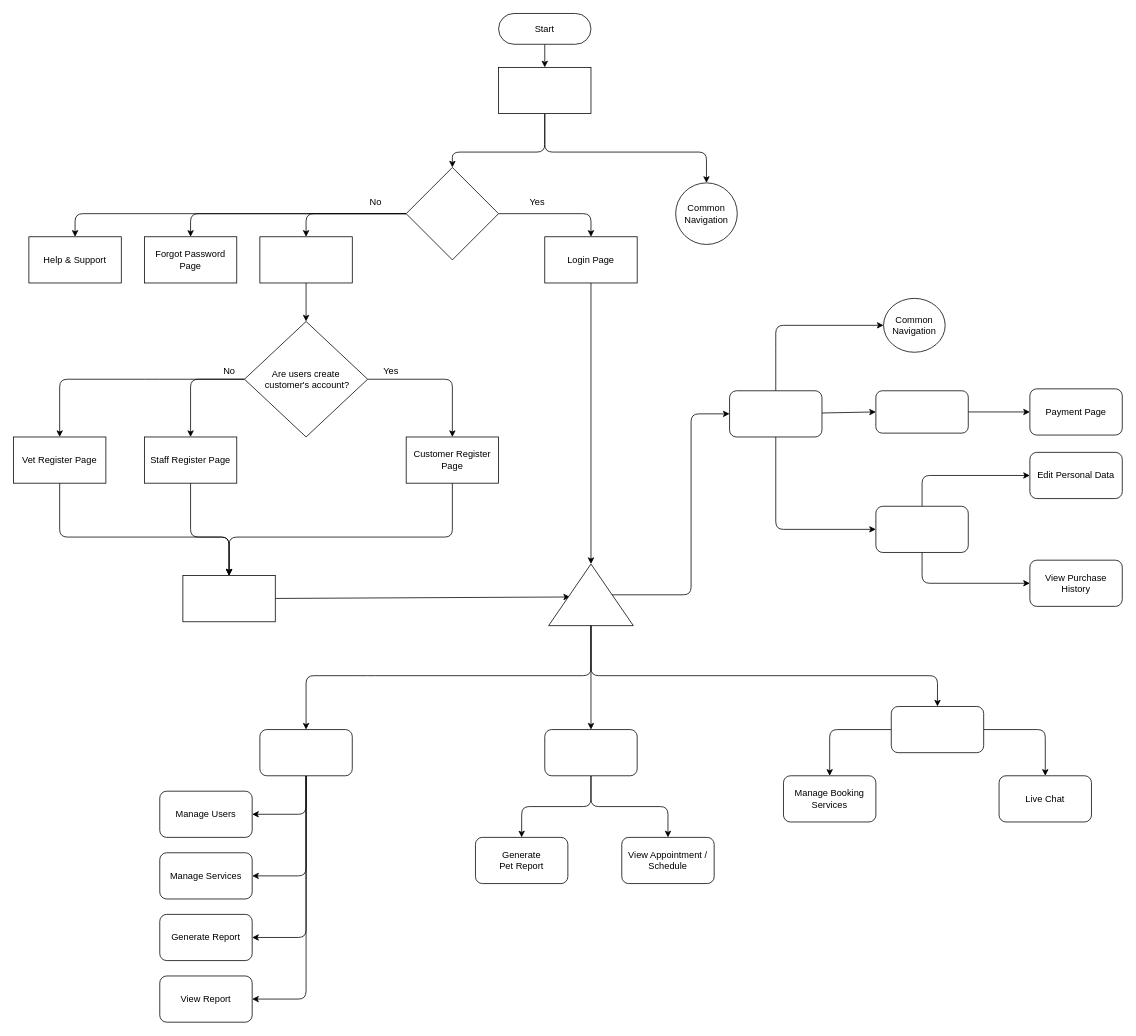
Some shapes in this 1136 by 1036 pixel diagram are drawn without their labels. Here are the shapes that lost their labels. From the top down, the centre of each, then its label:
[544,90]: Index Page
[452,213]: Do users have account?
[305,259]: Register Page
[775,413]: Customer Page
[921,411]: Service Page
[921,529]: Profile Page
[228,598]: Login
[590,594]: Define User Account
[937,729]: Staff Page
[305,752]: Admin Page
[590,752]: Vet Page
